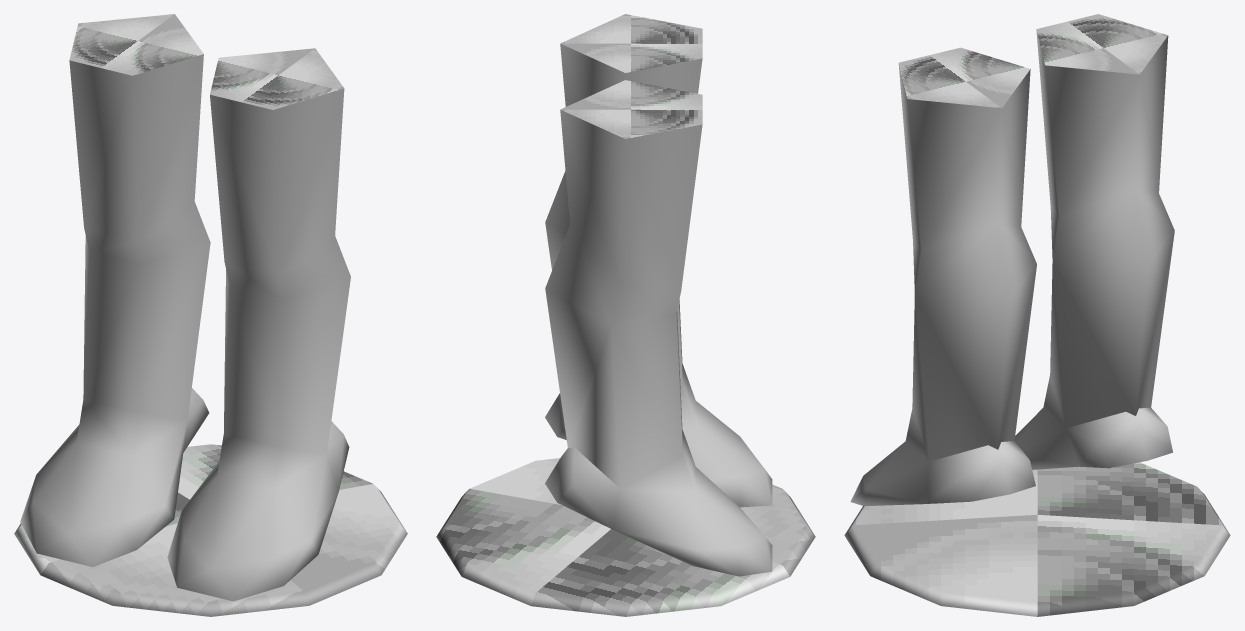
File: mq_sock_lng_grc.dae
3 renders of one model, left to right at view 1: azimuth 30°, elevation 25°; view 2: azimuth 150°, elevation 25°; view 3: azimuth 270°, elevation 25°, orthographic. The views are drawn at different scales.
Visible parts, largest first — view 1: mq_sock_lng_grc; view 2: mq_sock_lng_grc; view 3: mq_sock_lng_grc.
Boxes of the visible parts, x1,y1,x2,y2 form: mq_sock_lng_grc: [14, 14, 407, 616]; mq_sock_lng_grc: [436, 14, 815, 616]; mq_sock_lng_grc: [844, 14, 1230, 616].
Bounding box in the file's own units: 17 × 22.75 × 17.
2 materials, 2 textured.
